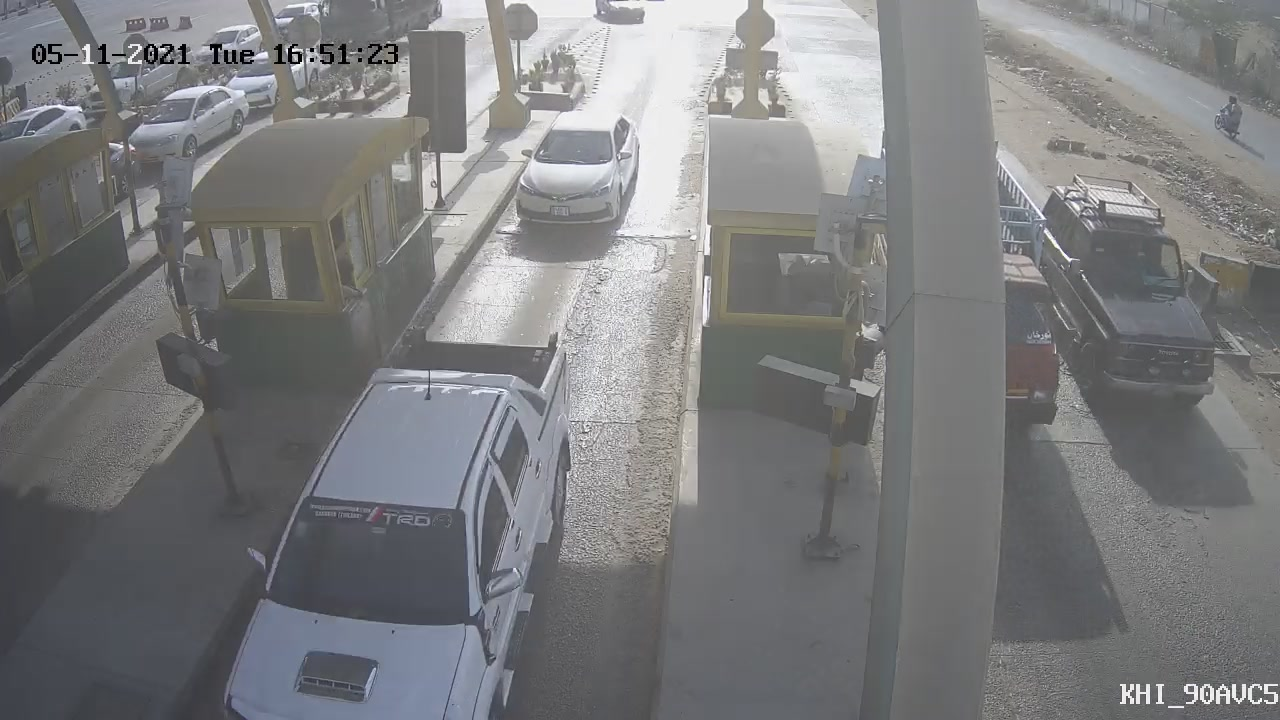F1: (492, 91, 660, 255)
